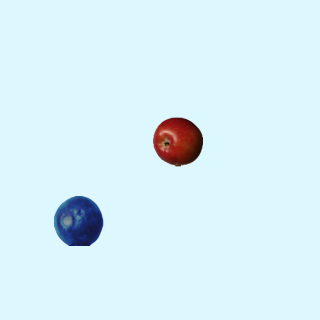Apple Braeburn: (152, 116, 202, 166)
Huckleberry: (53, 195, 103, 245)
